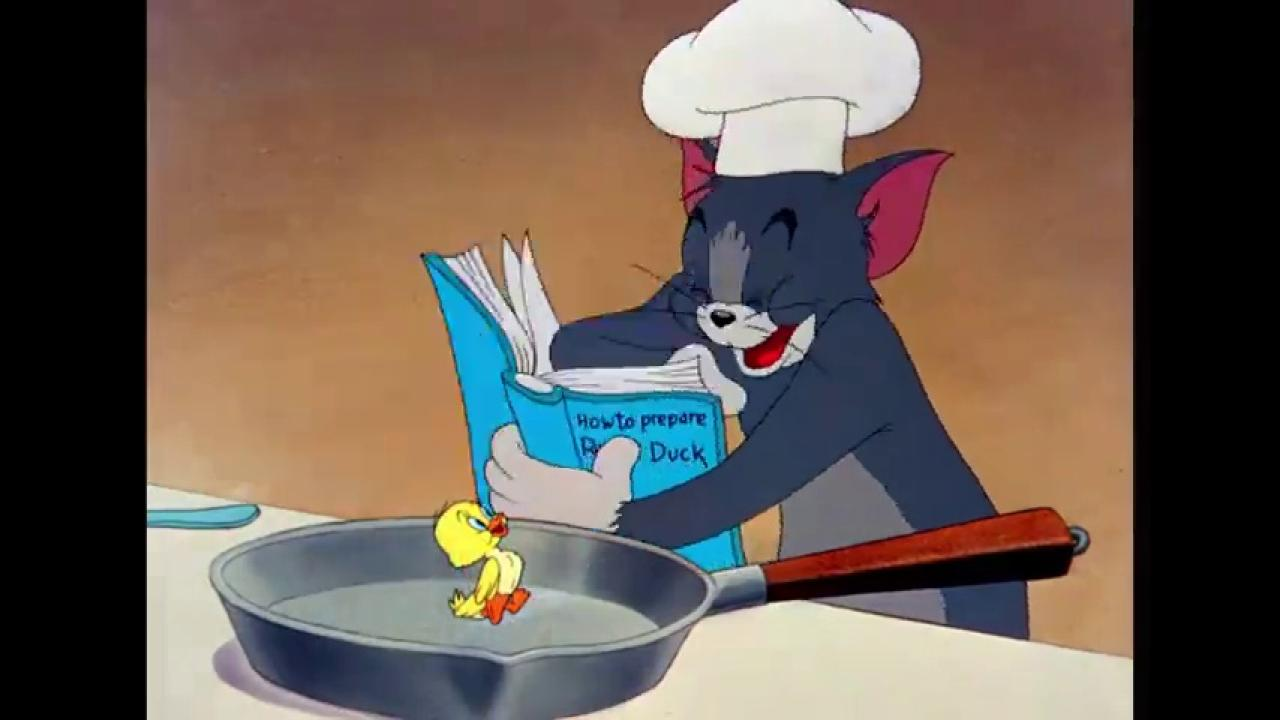Tom: (482, 133, 1030, 641)
